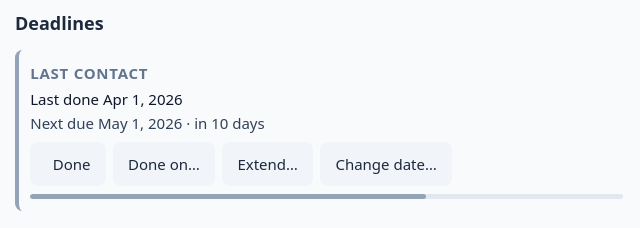
Test: DeadlinePanel › Change date… starts the date editor on the card
Click the button "Change date…": point(386, 164) [320,142,452,186]
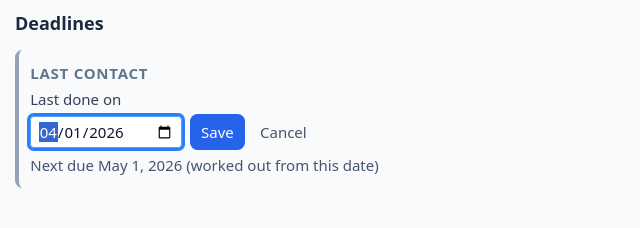
Result: the date field labelled "Last done on" holds "2026-04-01" at [30,116,182,148]
